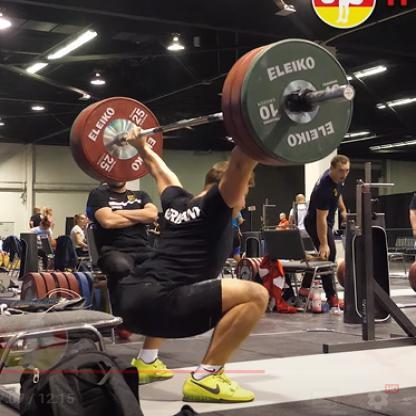Barbell: (342, 82, 357, 104)
